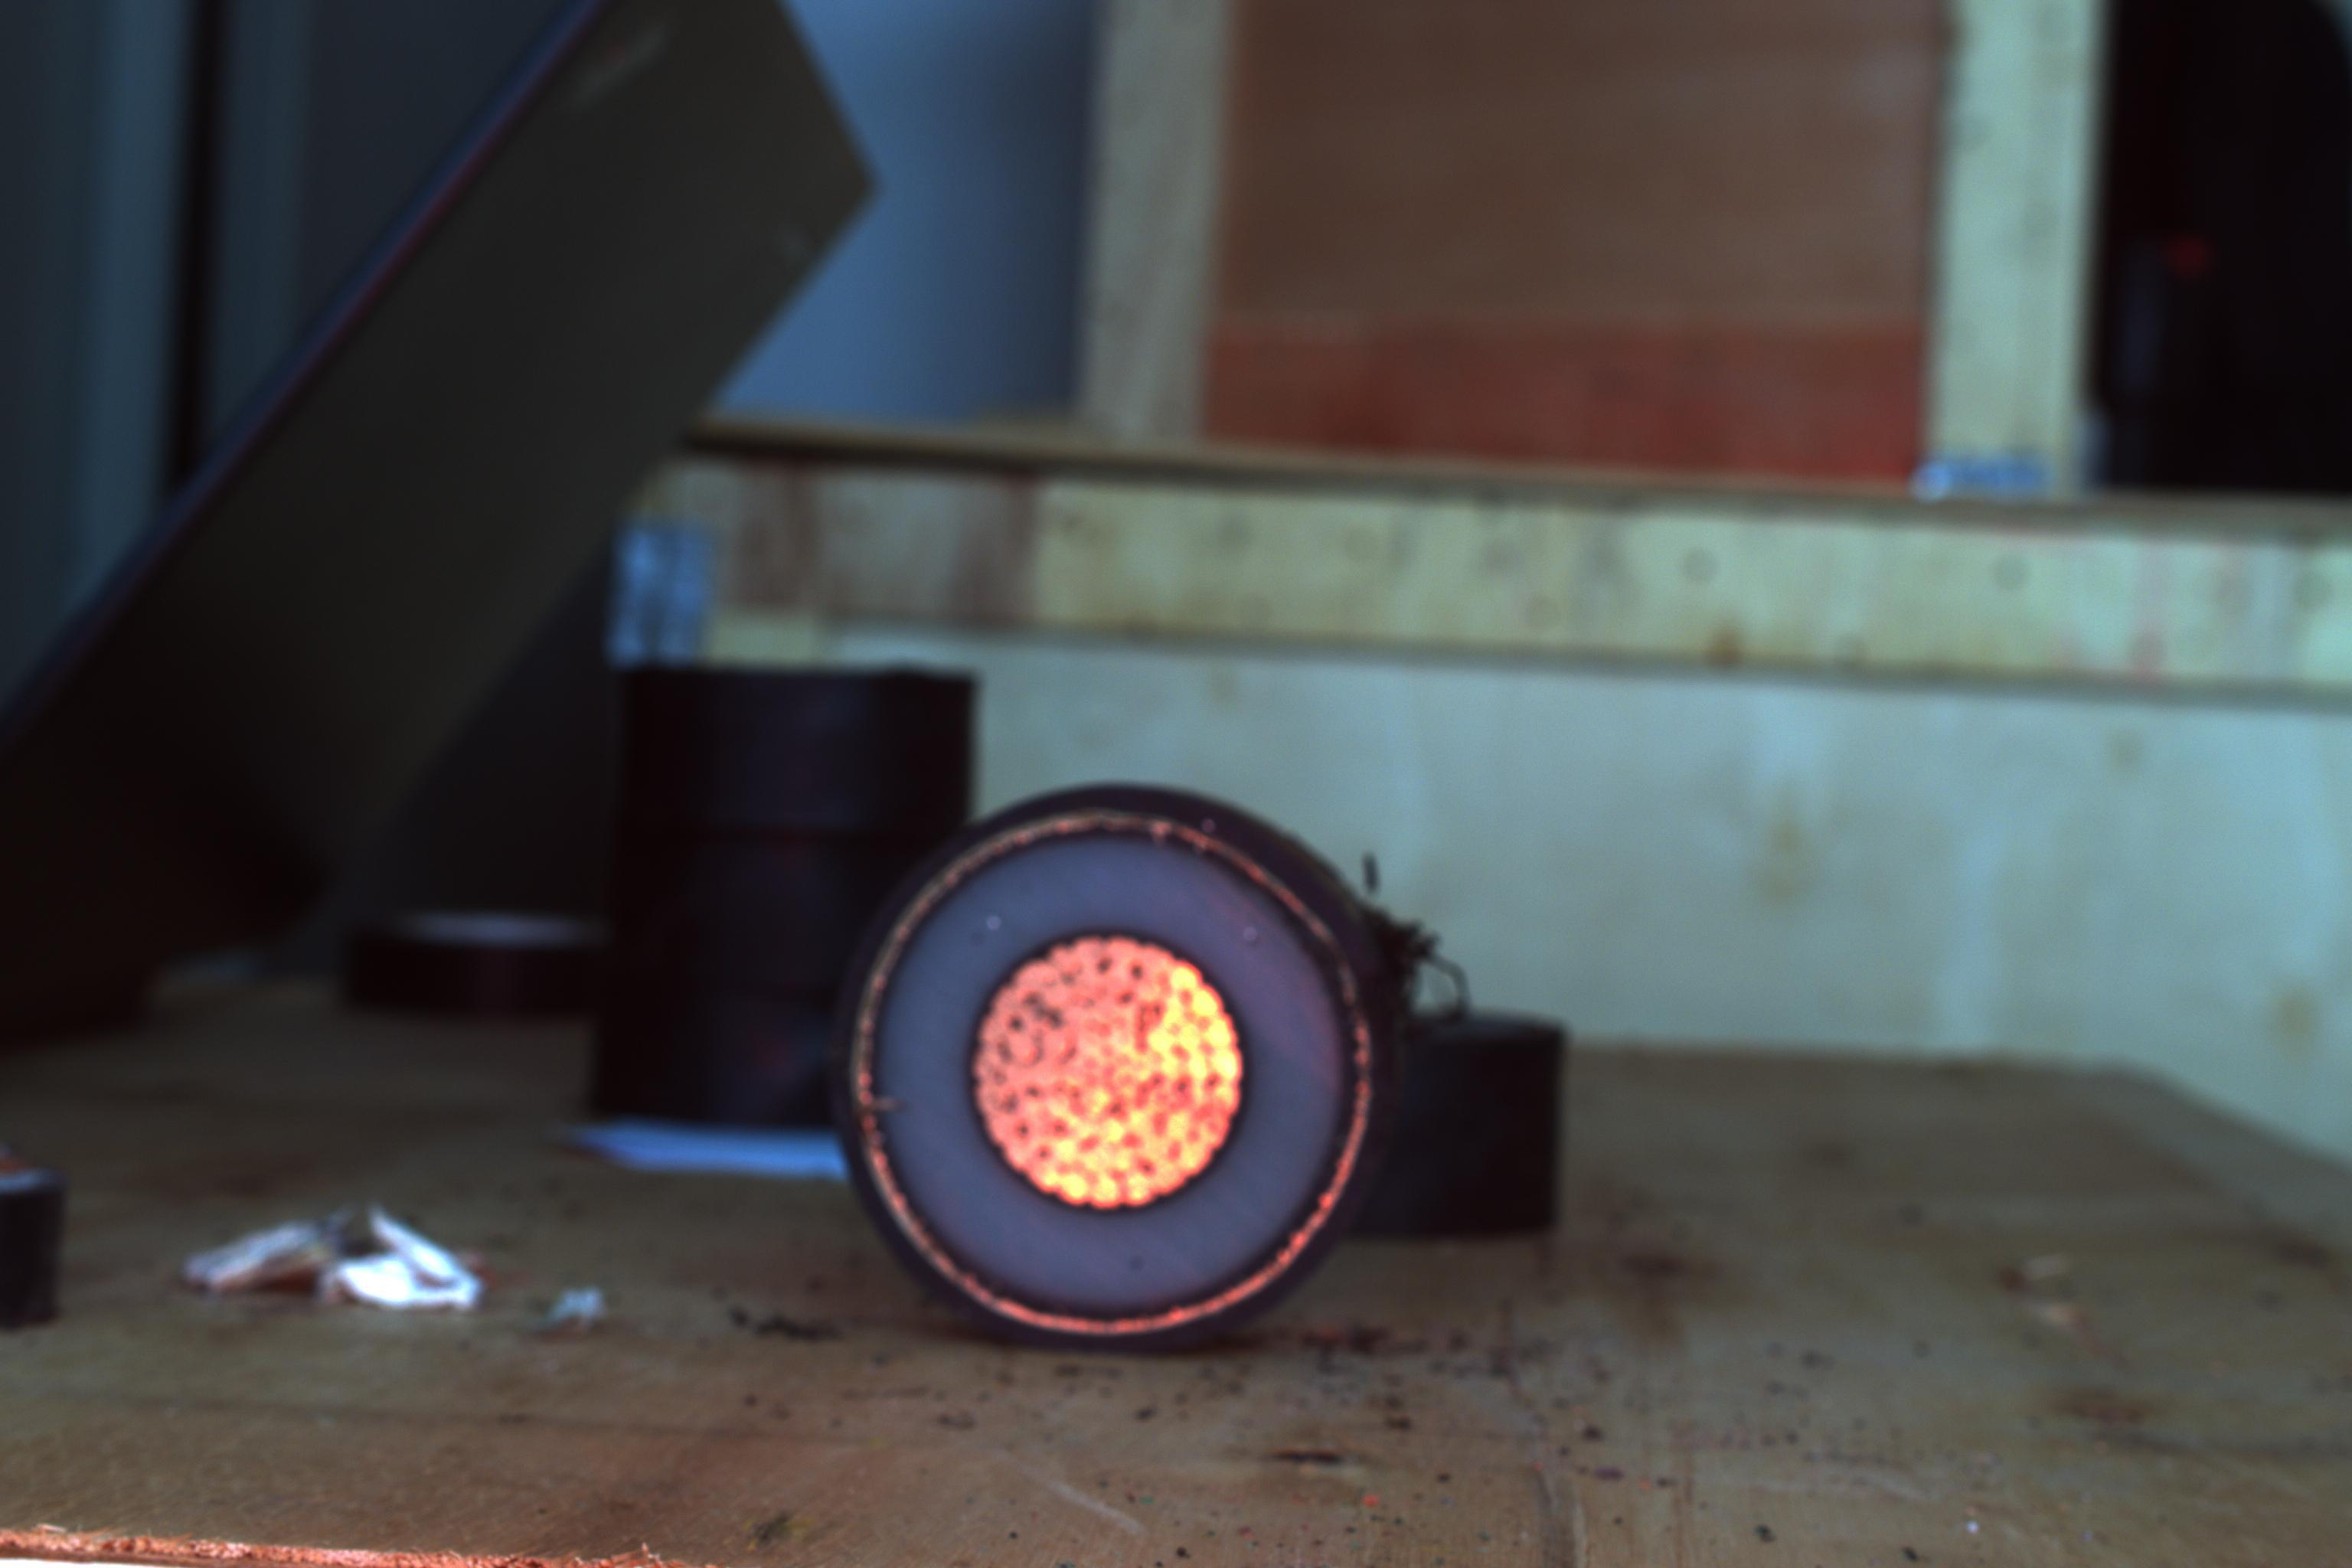YJV_26_35kV_1x630: (847, 796, 1386, 1351)
